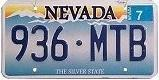placa de veiculo: (4, 0, 153, 77)
